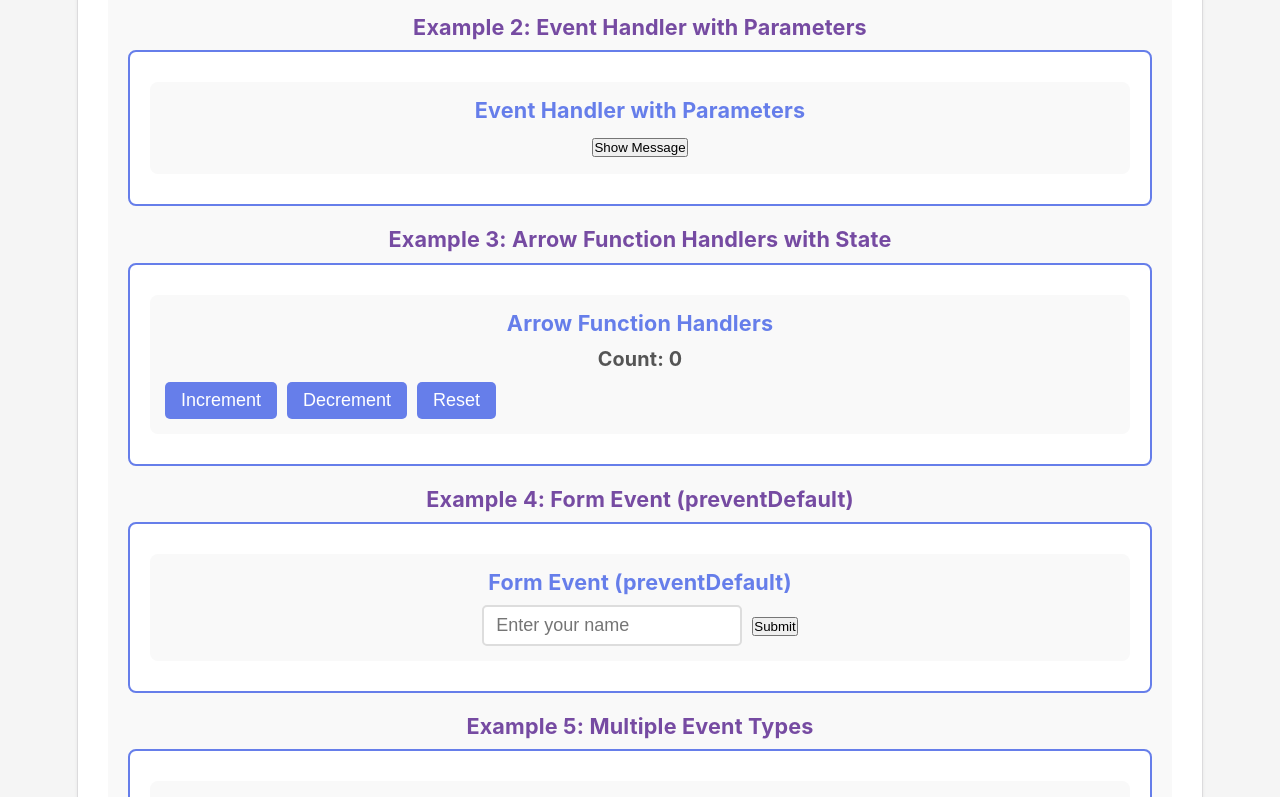
it: EventHandlingDemo › increments counter when increment button is clicked
The image size is (1280, 797).
(page scrolled)
Expected: the text "Count: 0" is shown, top-left (598, 347), bottom-right (682, 371)
Note: Find and click increment button
Click the button "Increment". click: (221, 400)
box: top-left (165, 382), bottom-right (277, 419)
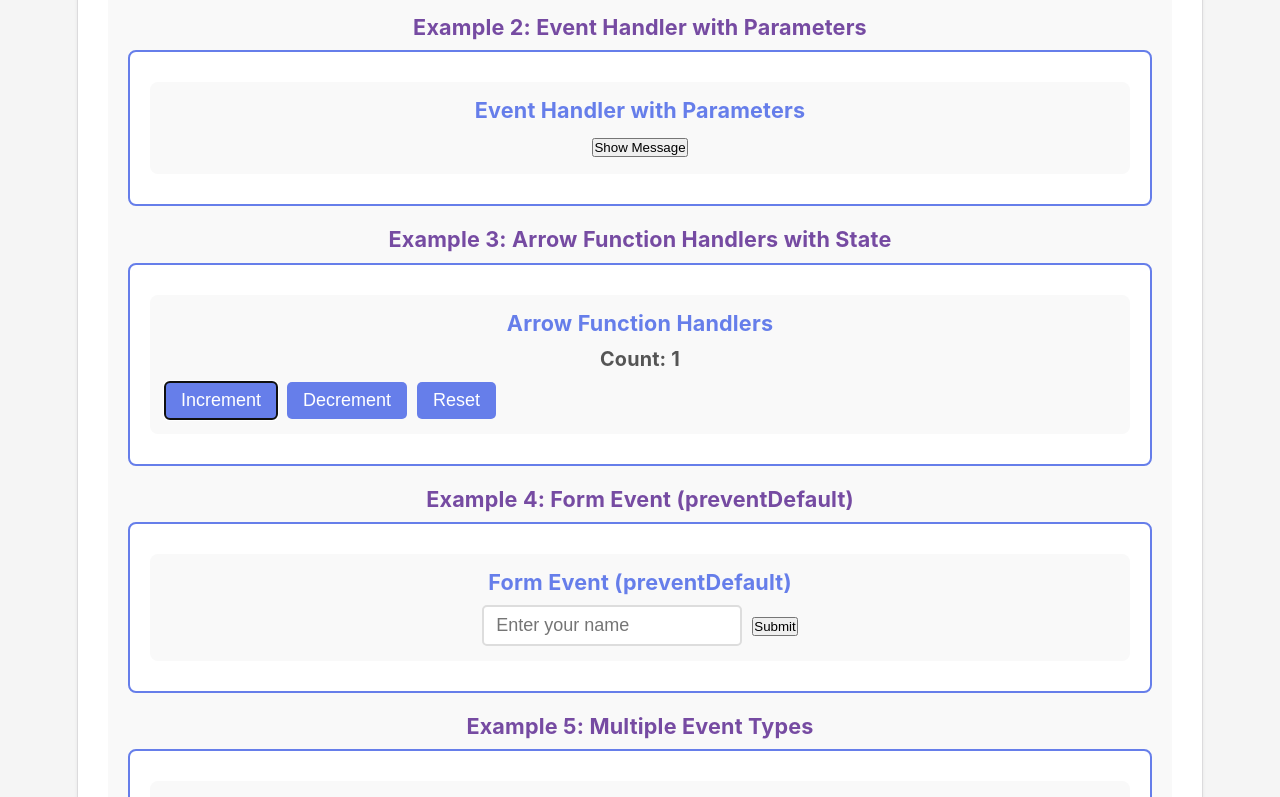
Now the text "Count: 1" is shown, box top-left (600, 347), bottom-right (680, 371)
